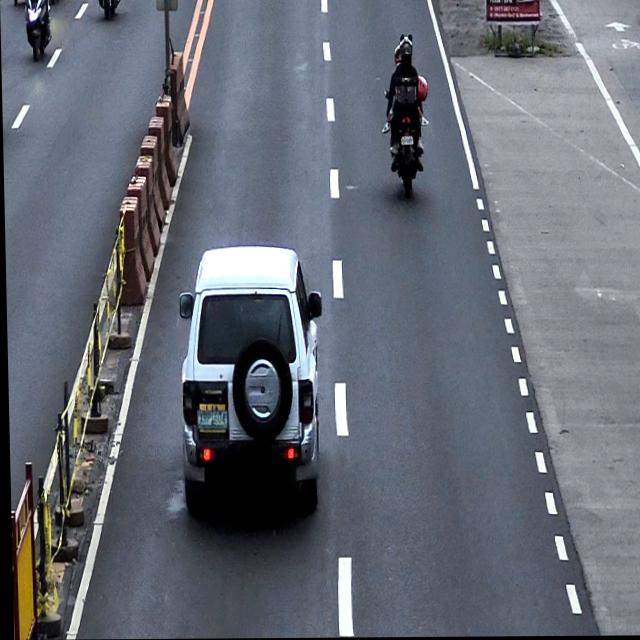Car: (175, 245, 324, 517)
License-Plate: (194, 403, 227, 435), (400, 135, 414, 147)
Motorcycle: (380, 84, 429, 199), (24, 0, 53, 62)
